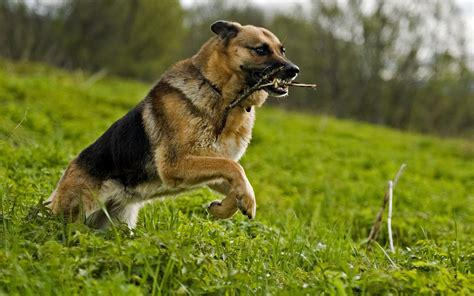dog: (43, 21, 299, 228)
